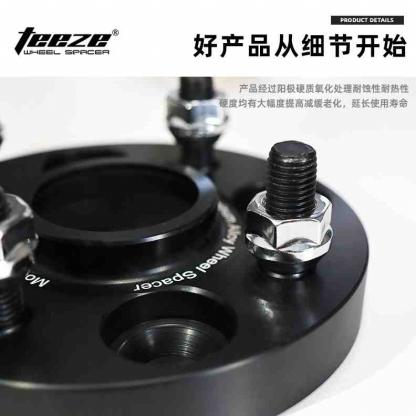FOD: (0, 128, 379, 416)
